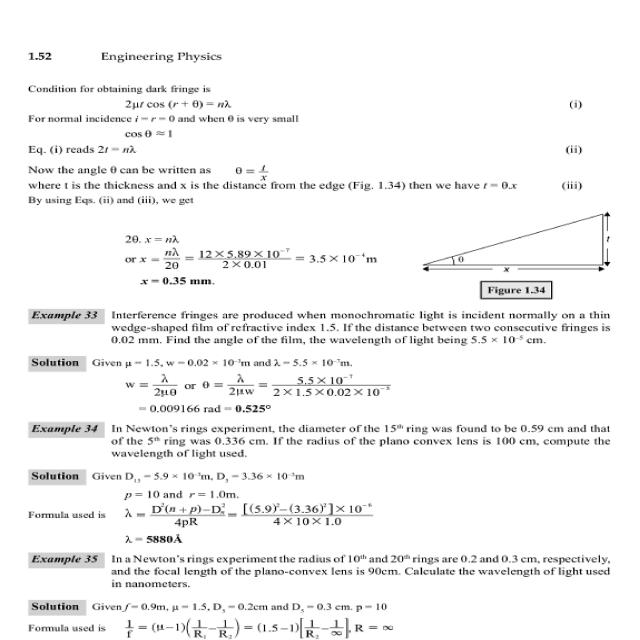diagram: (406, 201, 640, 301)
